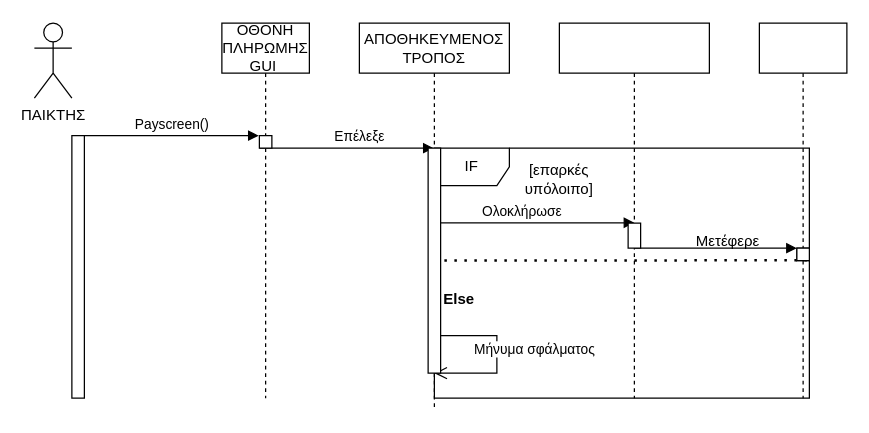
This 869x433 diagram has some shape labels left out. Here are the shapes that lost their labels. From the top down, the centre of each, then its label:
At pixel 633 210: "ΠΛΗΡΩΜΗ".
At pixel 802 210: "ΑΡΧΙΚΗ ΟΘΟΝΗ GUI".
